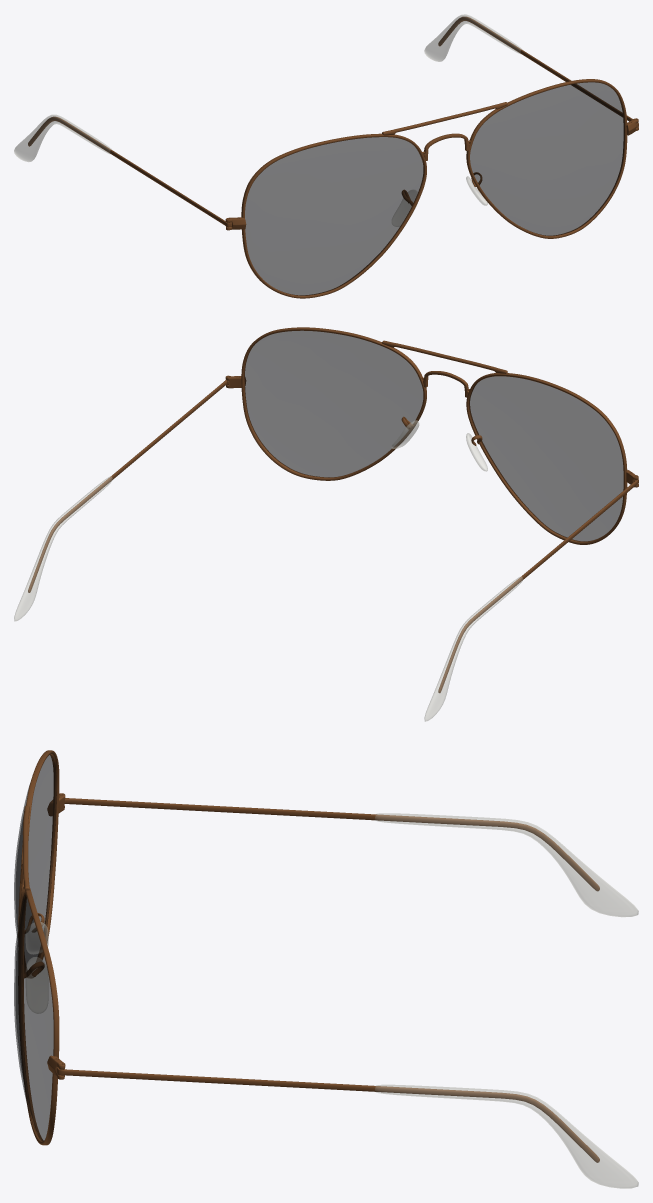
Rendered from oversize-kare-havana.glb.
The picture shows the model from 3 angles, top to bottom: view 1: azimuth 30°, elevation 25°; view 2: azimuth 150°, elevation 25°; view 3: azimuth 270°, elevation 25°; orthographic projection. The views are drawn at different scales.
Parts seen in each view (by area): view 1: OPTIK_PRODUCT_246; view 2: OPTIK_PRODUCT_246; view 3: OPTIK_PRODUCT_246.
Boxes of the visible parts, x1,y1,x2,y2 form: OPTIK_PRODUCT_246: (14, 14, 638, 298); OPTIK_PRODUCT_246: (14, 327, 638, 721); OPTIK_PRODUCT_246: (14, 750, 638, 1188).
Size of the model in its own units: 0.215 by 0.076 by 0.2062.
